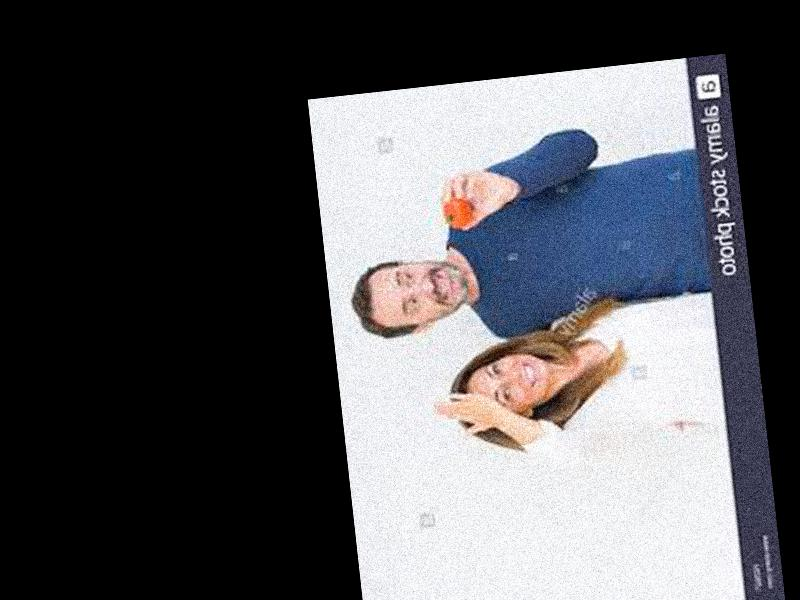Tomato: (439, 198, 472, 229)
